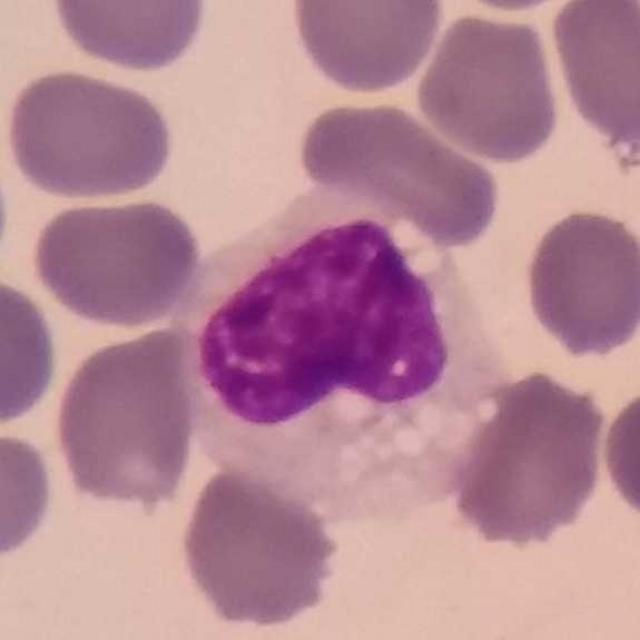Monocyte: (162, 178, 514, 528)
RBC: (295, 96, 505, 248), (444, 366, 612, 551), (175, 462, 348, 632), (49, 323, 201, 513), (27, 192, 207, 331), (1, 64, 179, 204), (411, 8, 565, 167), (520, 204, 639, 360), (285, 0, 448, 98), (546, 0, 640, 149), (46, 0, 212, 75), (0, 271, 62, 433), (0, 424, 59, 569), (596, 379, 640, 530), (430, 0, 603, 14), (0, 133, 14, 293)
